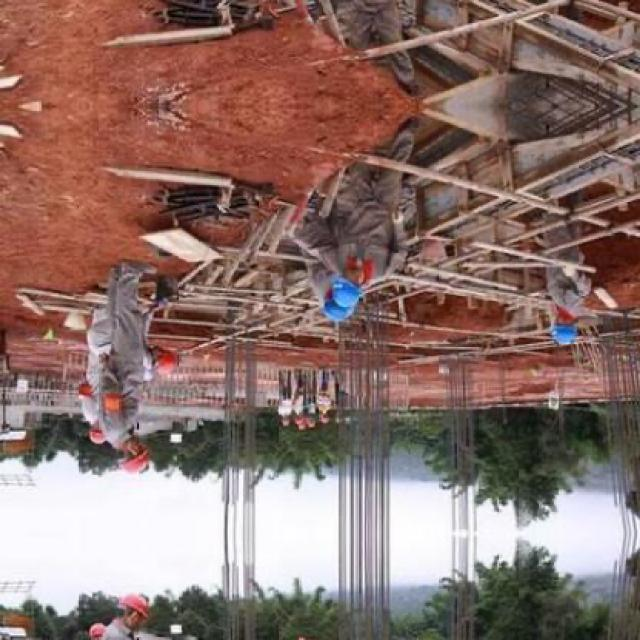con casco: (287, 272, 389, 333), (544, 289, 597, 356), (98, 433, 142, 483), (146, 339, 190, 383)
